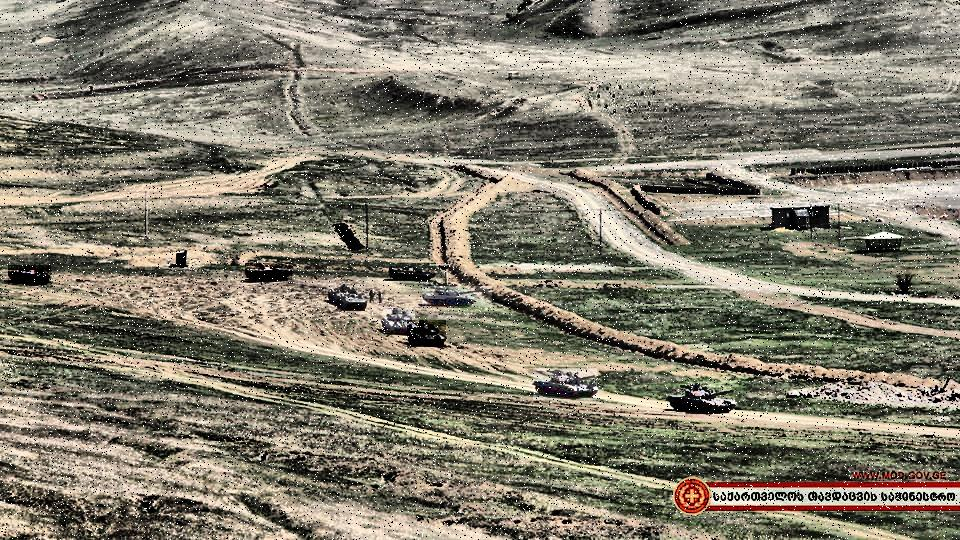military-vehicle: (667, 383, 737, 415), (533, 368, 597, 400), (423, 286, 493, 307), (407, 320, 446, 347), (329, 285, 365, 310), (9, 265, 52, 285), (383, 309, 415, 334), (245, 264, 292, 281), (389, 265, 435, 281)
